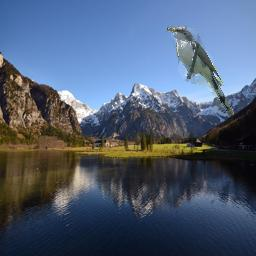Cuckoo: (166, 26, 234, 115)
